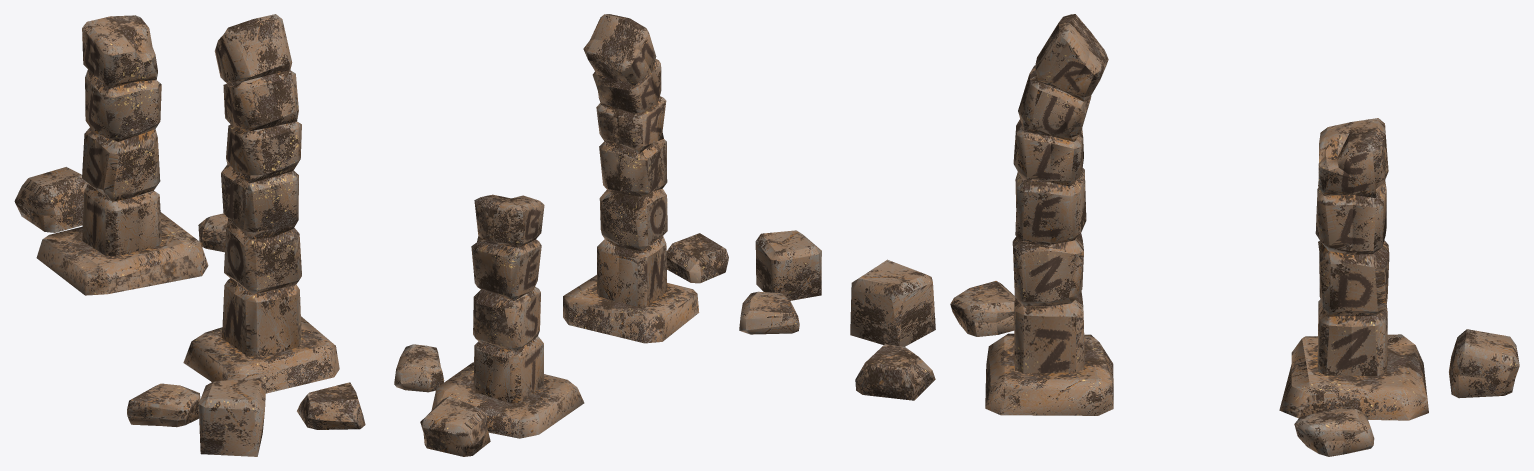
The model's file is RuinsV2.fbx.
3 renders of one model, left to right at view 1: azimuth 30°, elevation 25°; view 2: azimuth 150°, elevation 25°; view 3: azimuth 270°, elevation 25°, orthographic. The views are drawn at different scales.
Visible parts, largest first — view 1: Ruins_001; view 2: Ruins_001; view 3: Ruins_001.
Boxes of the visible parts, bbox=[...] form: Ruins_001: bbox=[14, 14, 365, 456]; Ruins_001: bbox=[394, 14, 821, 456]; Ruins_001: bbox=[850, 14, 1519, 456].
Bounding box in the file's own units: 109 × 122 × 200.
